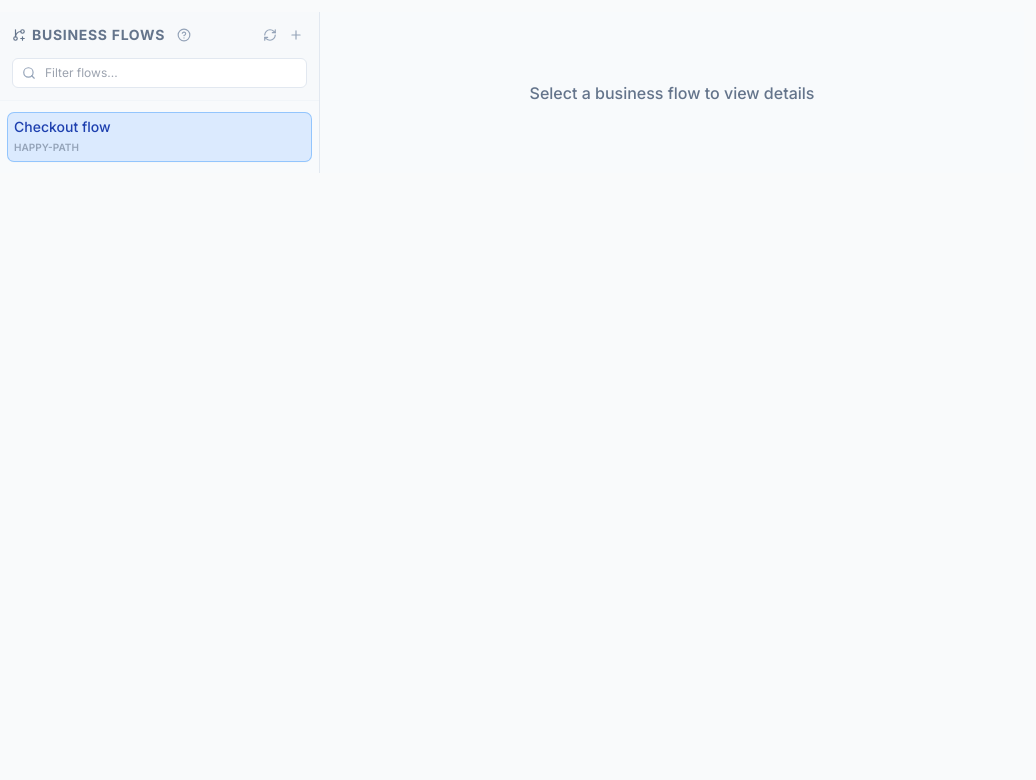
BusinessFlowsPage › shows inline save success feedback
Click the text "Checkout flow".
click(62, 126)  # box x1=14 y1=118 x2=111 y2=135
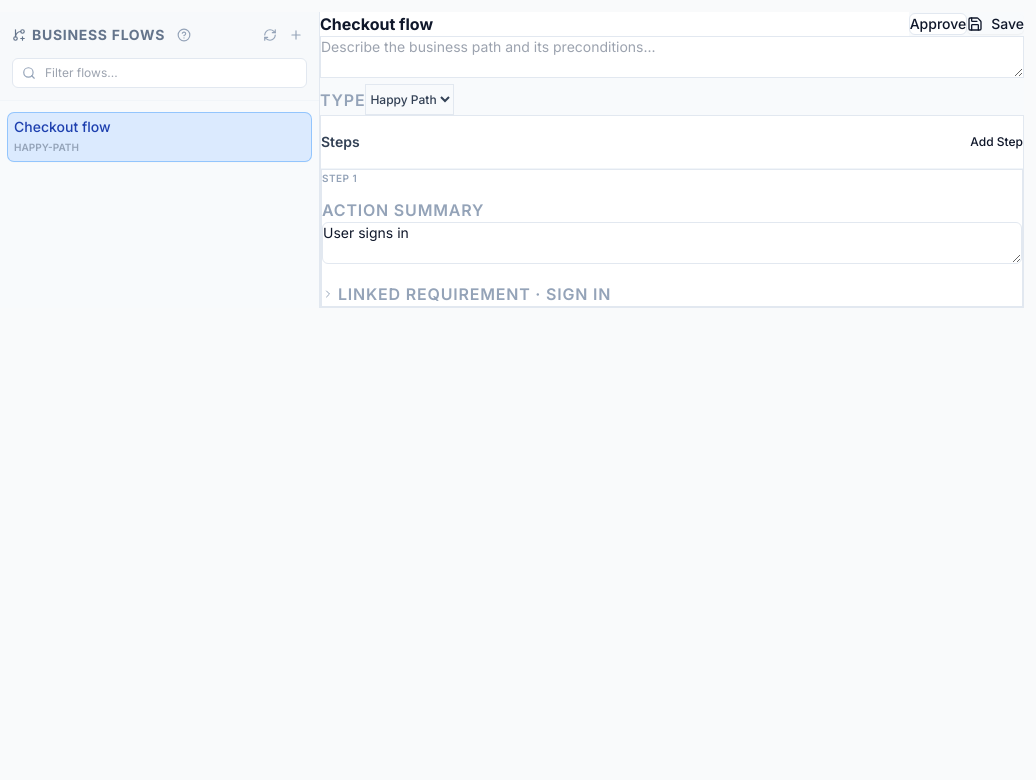
Click the button "Save".
click(996, 24)  # box x1=967 y1=14 x2=1024 y2=34
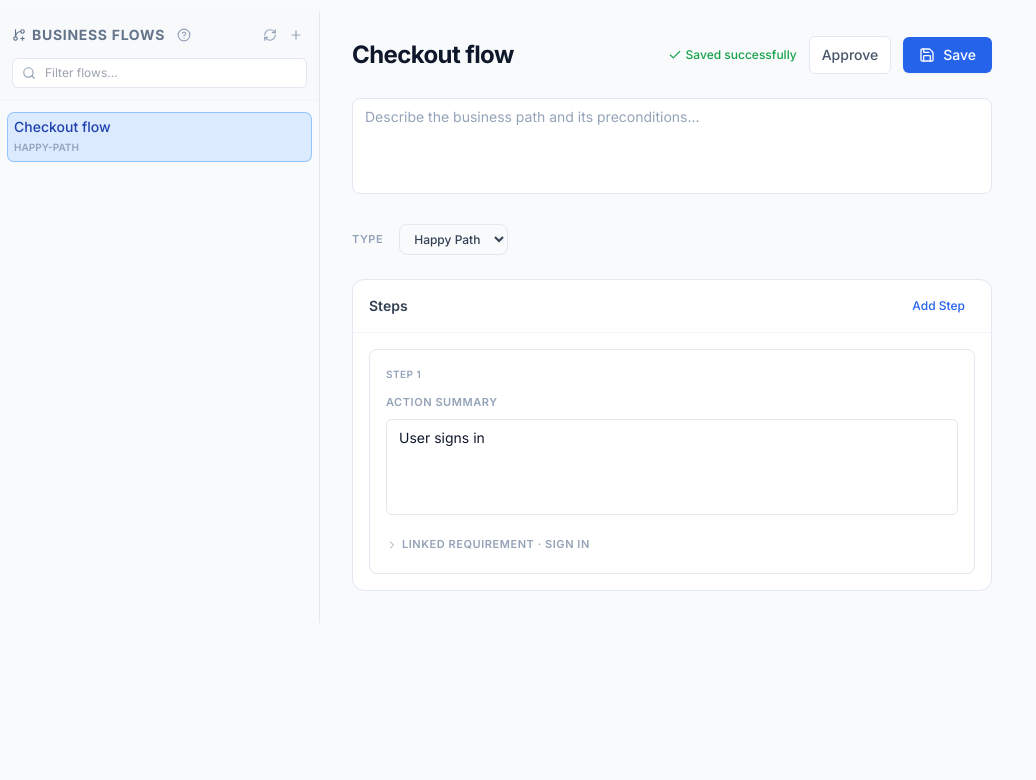
Now the text "Saved successfully" is shown, box x1=668 y1=47 x2=797 y2=63
